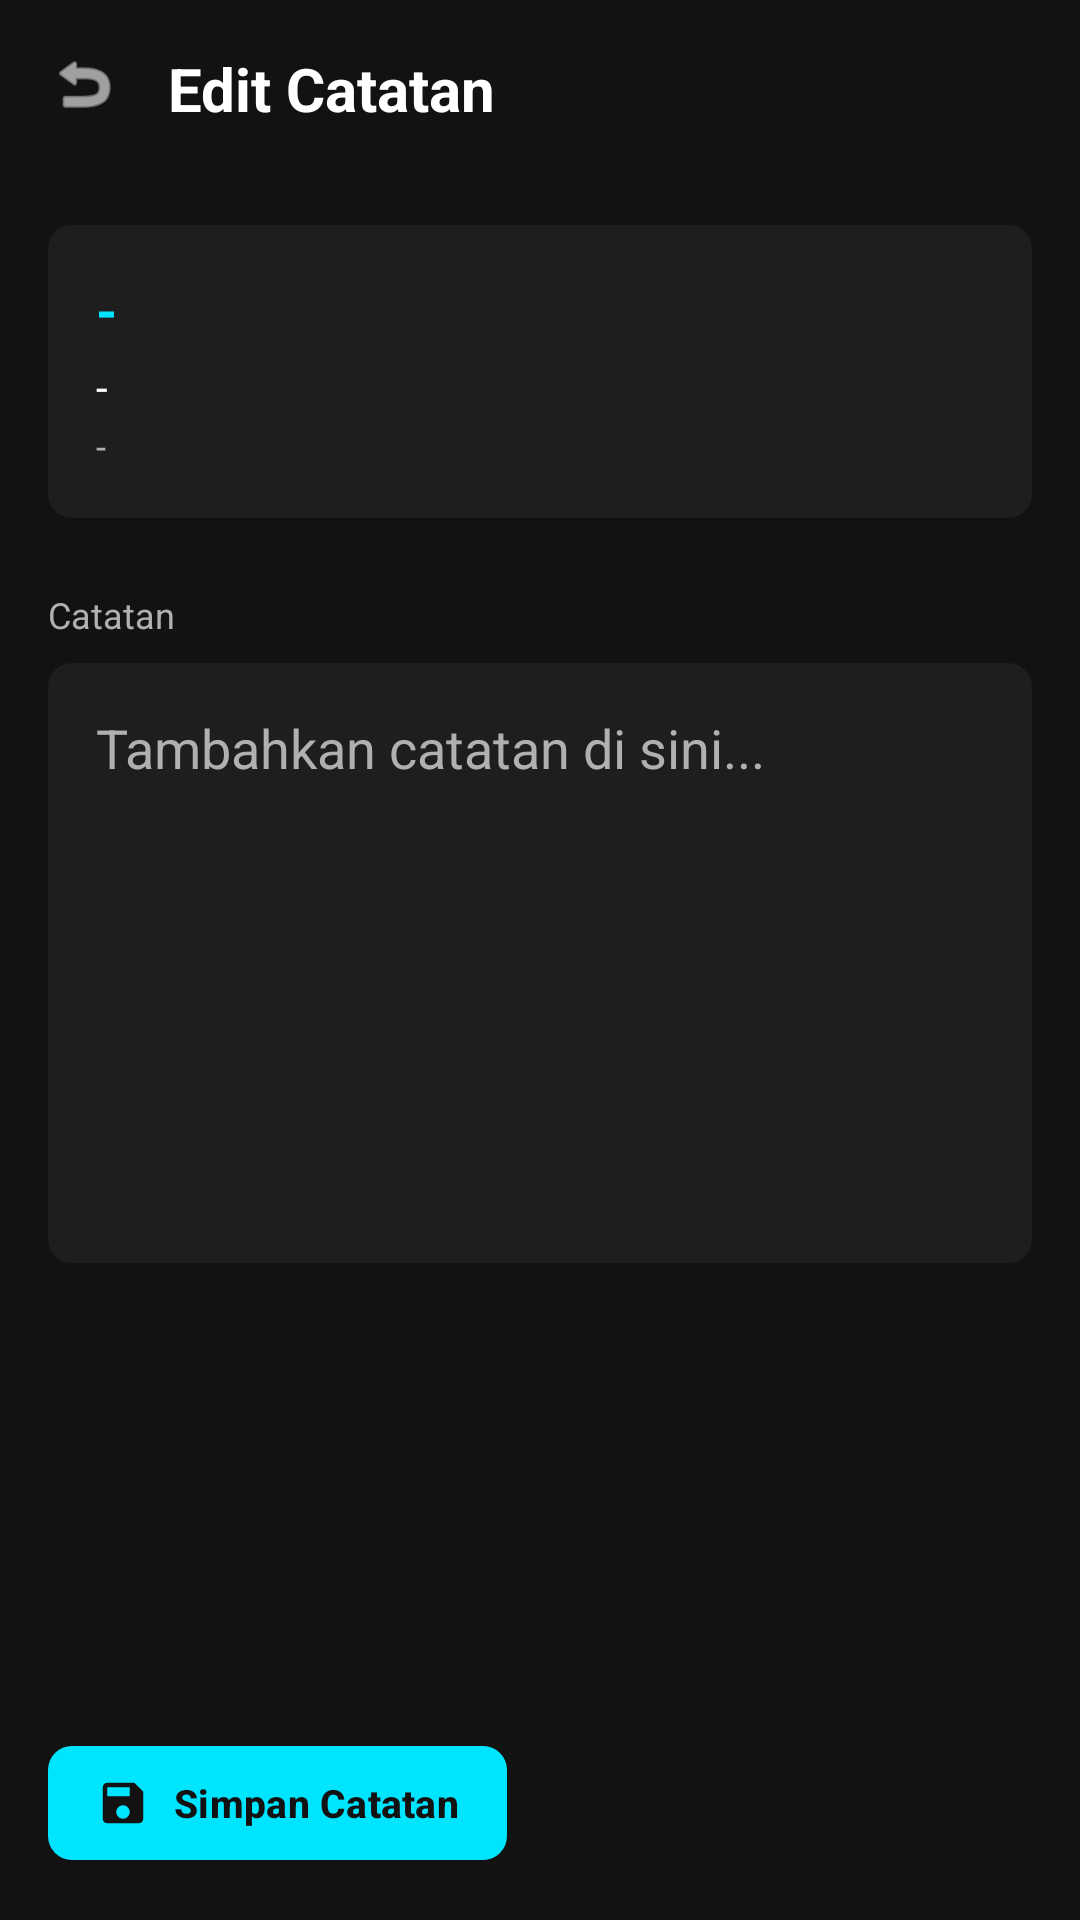

Locate icon controls on the screen. Image size 1080px x 1920px, boxes as {"x1": x1, "y1": y1, "x2": x2, "y2": y2}.
revert: {"x1": 59, "y1": 61, "x2": 111, "y2": 108}
